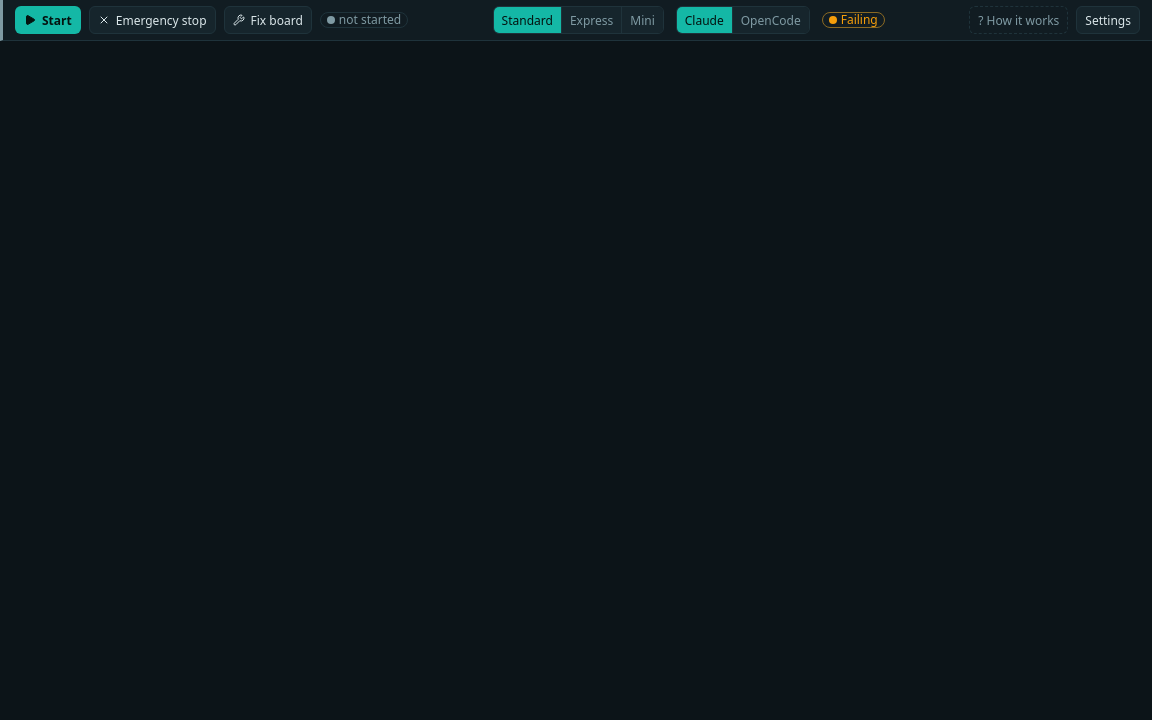
Test: whether that agent can actually run › is a button you can open in the failing state too
Step 1. Click the button with test id "ap-agent-state" → click(853, 20), box x1=822 y1=12 x2=885 y2=28
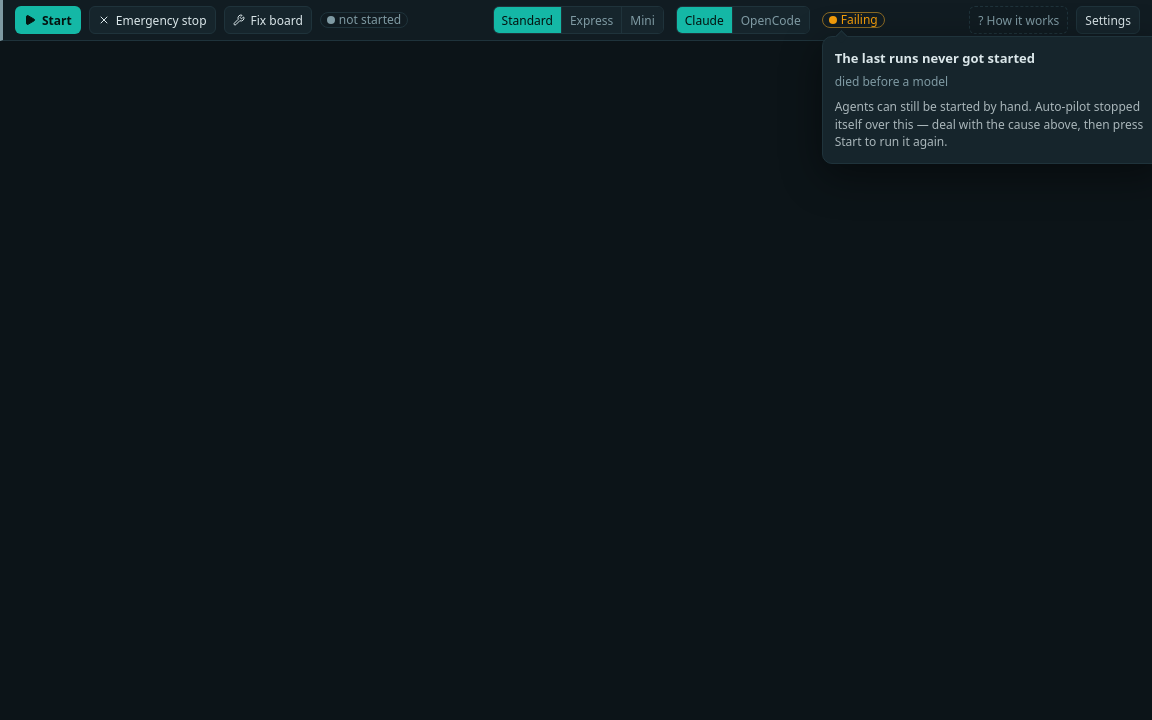
Now the dialog shows "died before a model", box x1=835 y1=73 x2=948 y2=90
